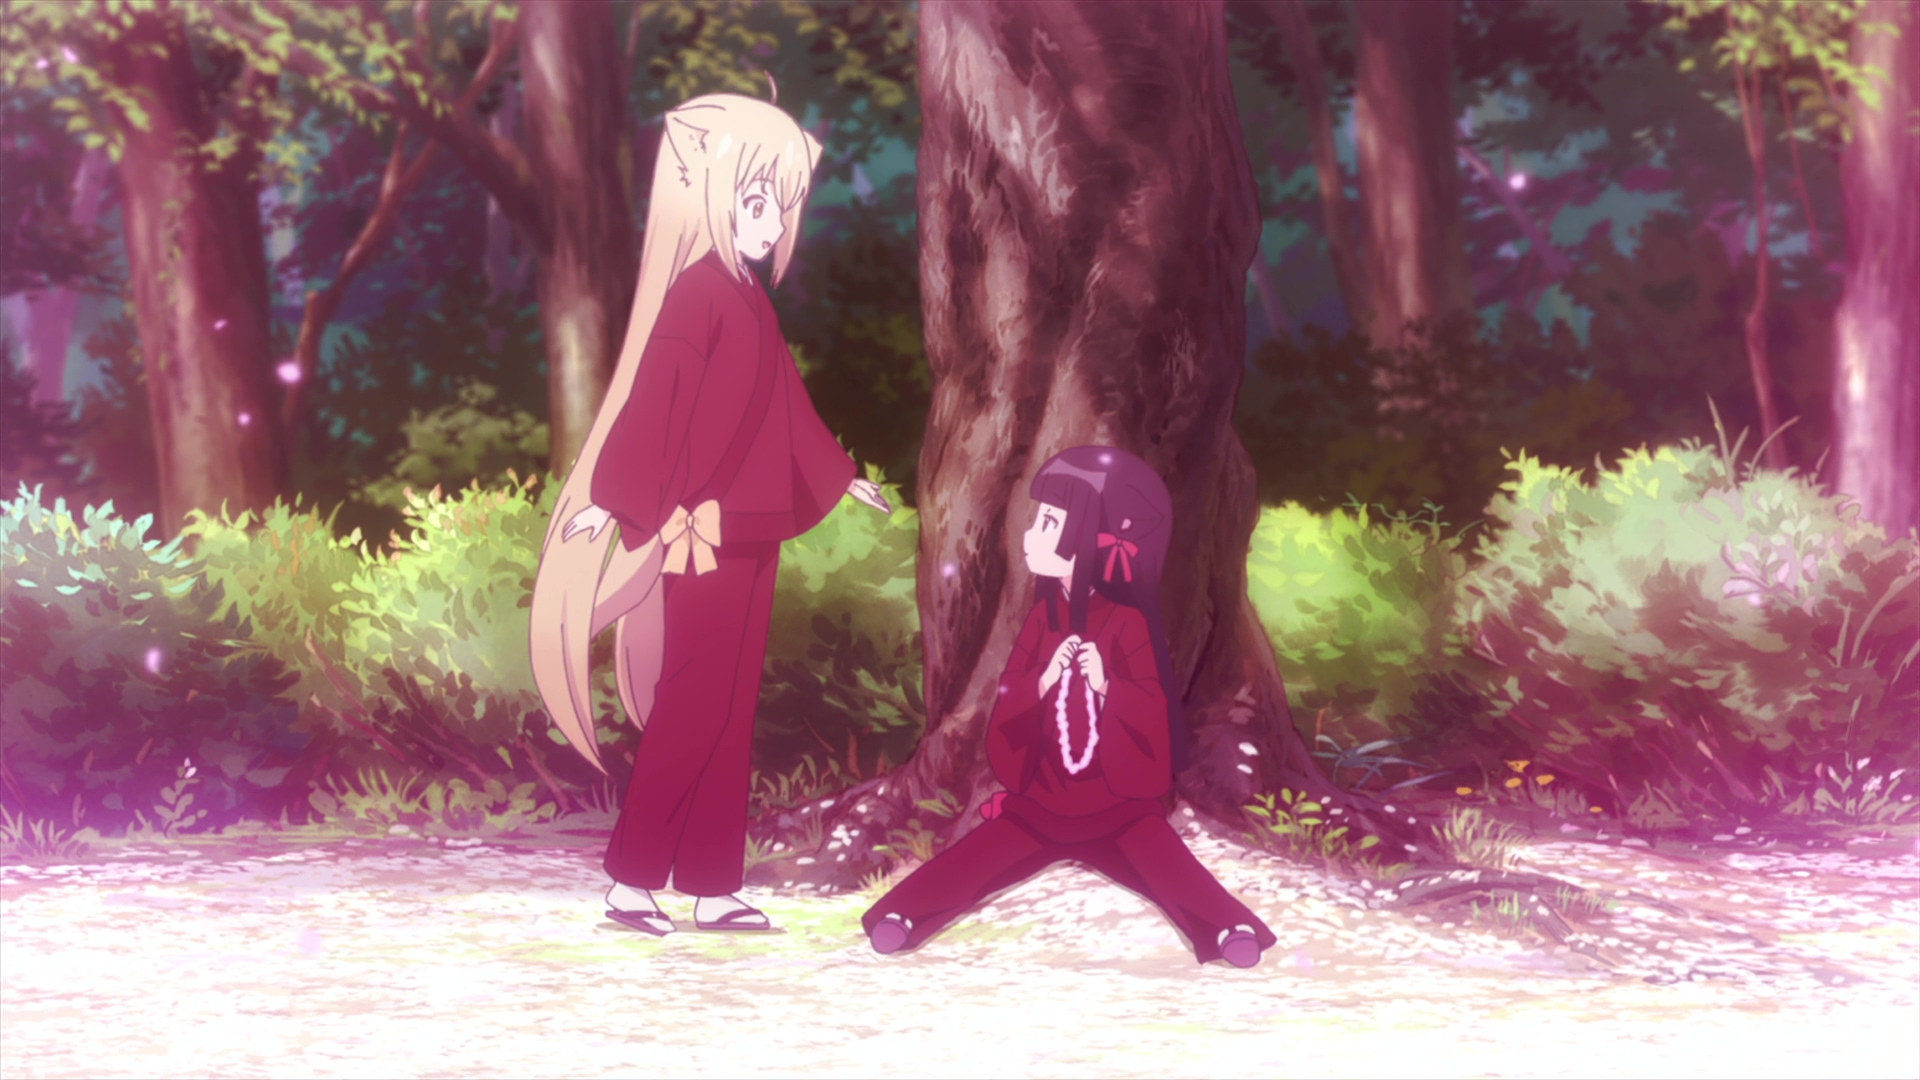柚: (527, 69, 895, 938)
樱: (862, 448, 1278, 971)
